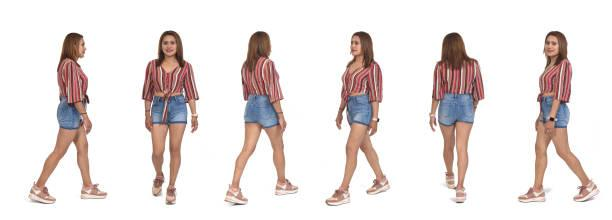Shorts: (242, 93, 281, 129), (438, 92, 476, 126), (536, 94, 570, 129), (150, 93, 188, 124), (342, 93, 374, 126), (55, 95, 84, 130)
long sleeve shirt: (141, 56, 200, 103), (431, 56, 484, 103), (337, 58, 384, 104), (240, 56, 284, 103), (537, 59, 573, 103), (56, 58, 89, 104)
